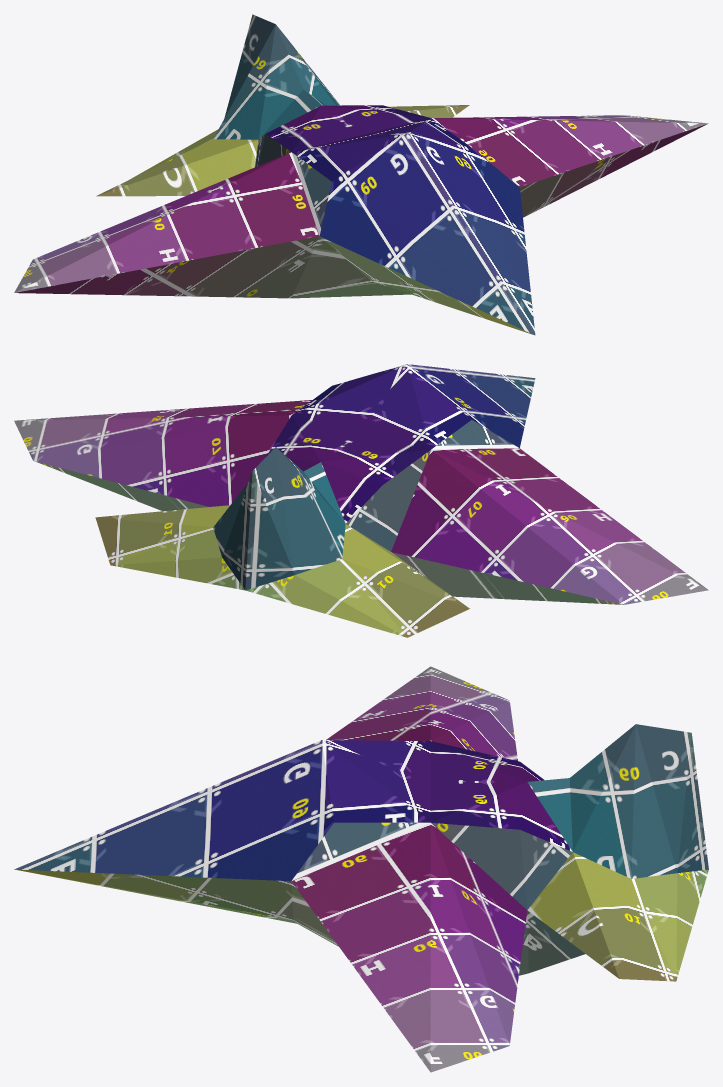
3 views of the same model, one above another, from view 1: azimuth 30°, elevation 25°; view 2: azimuth 150°, elevation 25°; view 3: azimuth 270°, elevation 25° (orthographic). The views are drawn at different scales.
Visible parts, largest first — view 1: ship; view 2: ship; view 3: ship.
Boxes of the visible parts, x1,y1,x2,y2 form: ship: (14, 14, 708, 335); ship: (14, 364, 708, 637); ship: (14, 666, 708, 1072).
Bounding box in the file's own units: 9.95 × 2.66 × 7.19.
